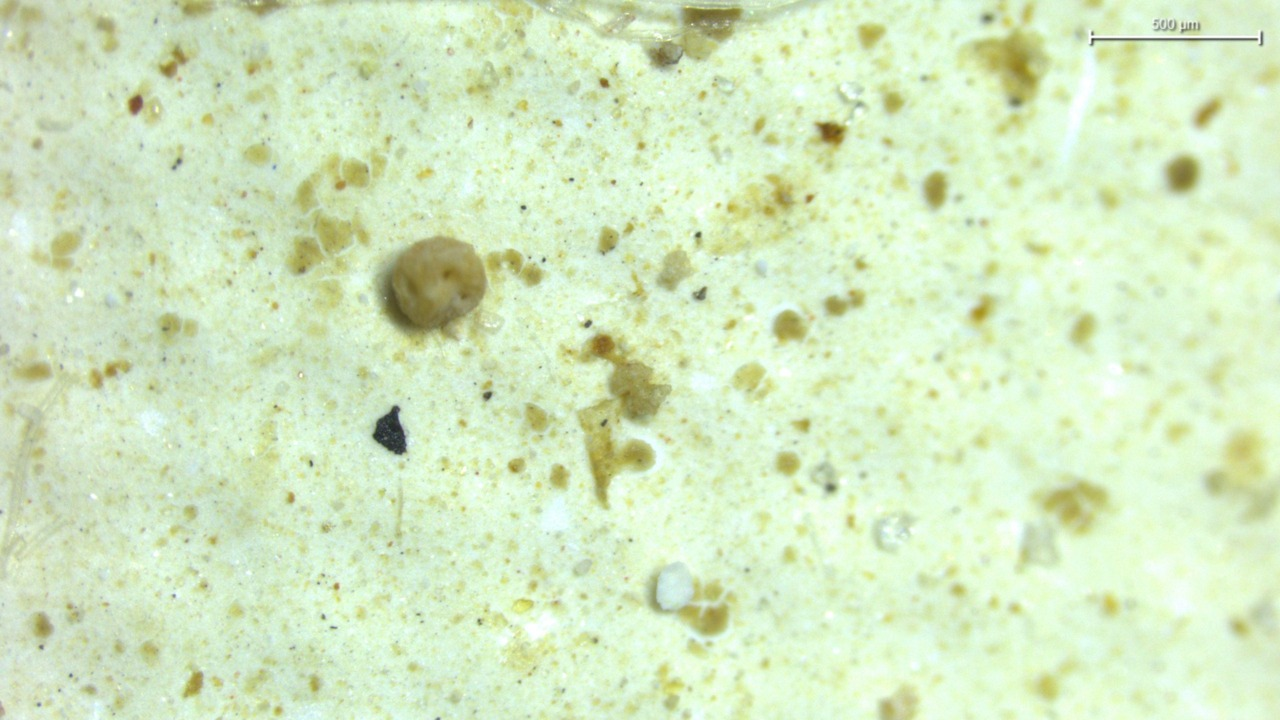microplastic_fragment: (384, 237, 486, 328), (655, 562, 695, 611)
